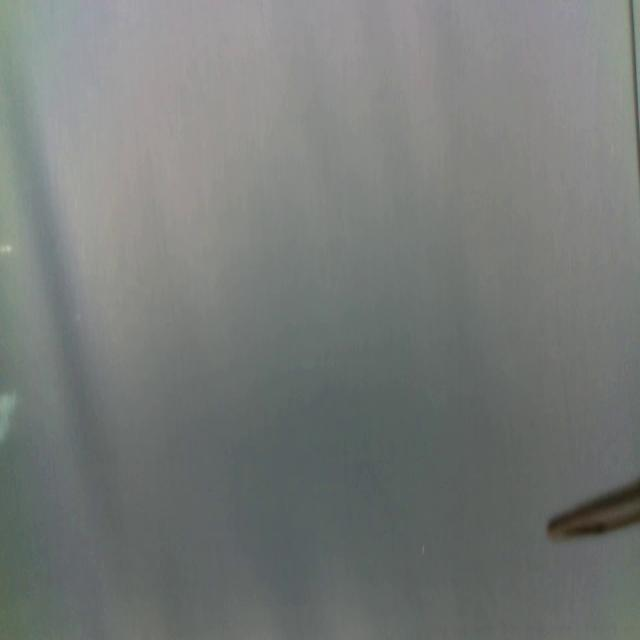crease: (629, 0, 640, 170)
